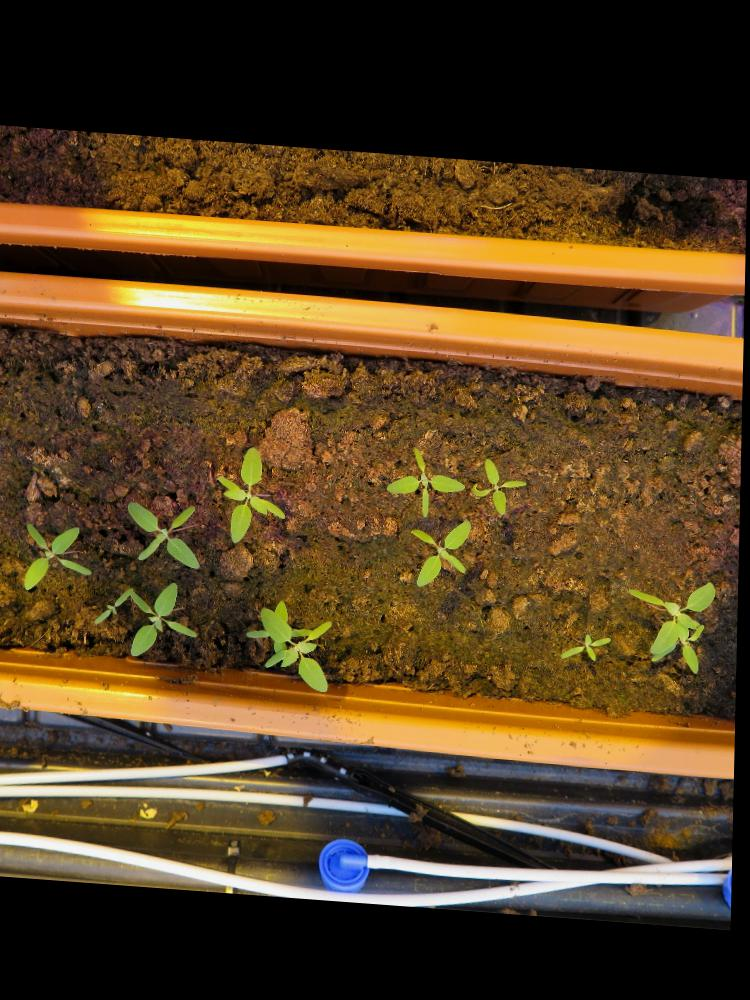weed: (387, 437, 469, 511), (125, 496, 206, 566), (405, 507, 476, 582), (25, 520, 98, 592), (470, 448, 532, 507), (560, 621, 618, 654)
